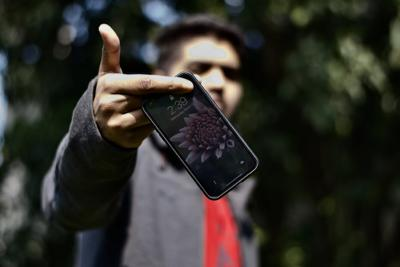cell-phone: (138, 72, 264, 199)
